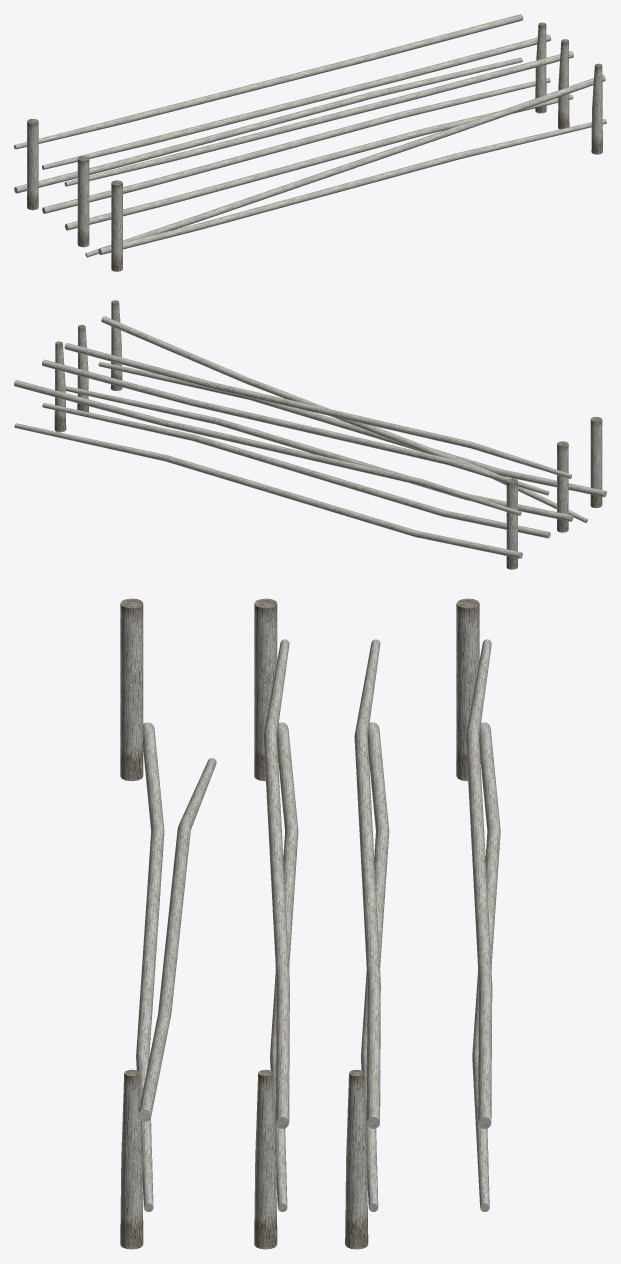
The model's file is Wooden fence 3.FBX.
3 renders of one model, top to bottom at view 1: azimuth 30°, elevation 25°; view 2: azimuth 150°, elevation 25°; view 3: azimuth 270°, elevation 25°, orthographic. The views are drawn at different scales.
Visible parts, largest first — view 1: Wooden_fence_004, Wooden_fence_01, Wooden_fence_003, Wooden_fence_002; view 2: Wooden_fence_003, Wooden_fence_01, Wooden_fence_002, Wooden_fence_004; view 3: Wooden_fence_004, Wooden_fence_01, Wooden_fence_002, Wooden_fence_003.
Boxes of the visible parts, <box> form: Wooden_fence_004: <box>85,63,606,271</box>; Wooden_fence_01: <box>64,39,573,247</box>; Wooden_fence_003: <box>14,14,523,210</box>; Wooden_fence_002: <box>42,22,551,213</box>; Wooden_fence_003: <box>14,380,522,569</box>; Wooden_fence_01: <box>64,324,573,532</box>; Wooden_fence_002: <box>42,341,550,538</box>; Wooden_fence_004: <box>98,300,606,522</box>; Wooden_fence_004: <box>120,598,216,1249</box>; Wooden_fence_01: <box>254,598,298,1249</box>; Wooden_fence_002: <box>345,639,389,1249</box>; Wooden_fence_003: <box>456,598,500,1211</box>.
Size of the model in its own units: 672 by 219 by 110.
